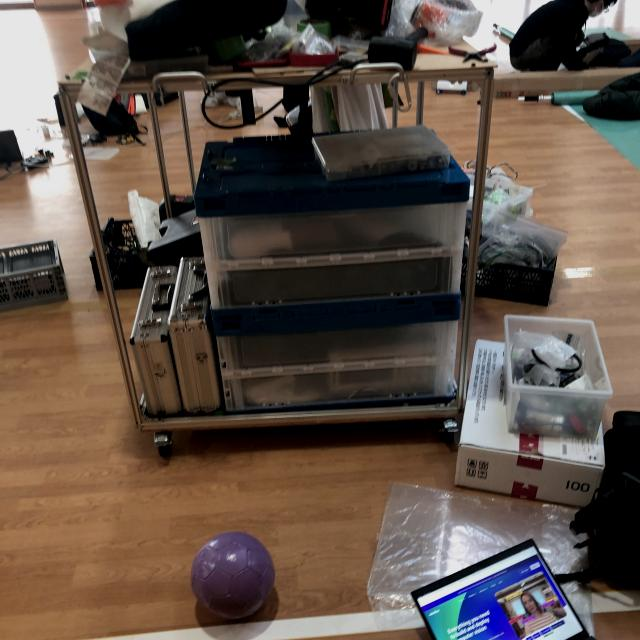purple_ball: (190, 533, 276, 617)
